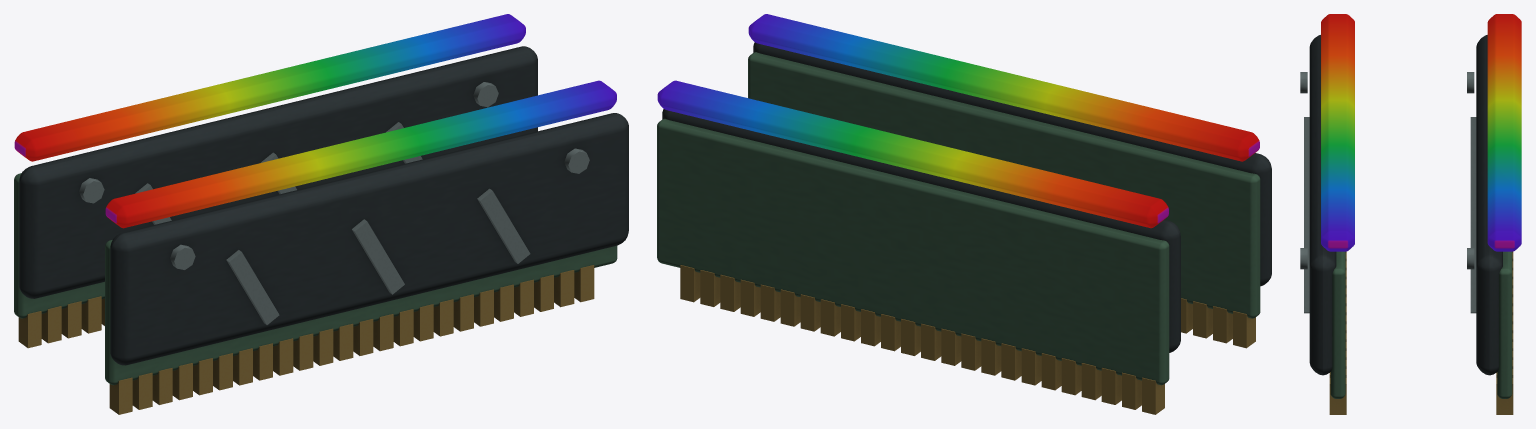
Rendered from ram_pair.glb.
3 renders of one model, left to right at view 1: azimuth 30°, elevation 25°; view 2: azimuth 150°, elevation 25°; view 3: azimuth 270°, elevation 25°, orthographic. The views are drawn at different scales.
Visible parts, largest first — view 1: ram_pair_static_0, ram_pair_rgb_0_1, ram_pair_rgb_1_2; view 2: ram_pair_static_0, ram_pair_rgb_1_2, ram_pair_rgb_0_1; view 3: ram_pair_static_0, ram_pair_rgb_1_2, ram_pair_rgb_0_1.
Part boxes in pixels (x1,y1,x2,y2): ram_pair_static_0: (14,46,628,414); ram_pair_rgb_0_1: (105,80,616,228); ram_pair_rgb_1_2: (14,14,525,161); ram_pair_static_0: (657,42,1271,414); ram_pair_rgb_1_2: (657,80,1168,228); ram_pair_rgb_0_1: (748,14,1259,161); ram_pair_static_0: (1300,35,1513,414); ram_pair_rgb_1_2: (1487,14,1521,251); ram_pair_rgb_0_1: (1321,14,1354,251).
Bounding box in the file's own units: 0.144 × 0.0555 × 0.0585.
3 materials, 3 textured.
